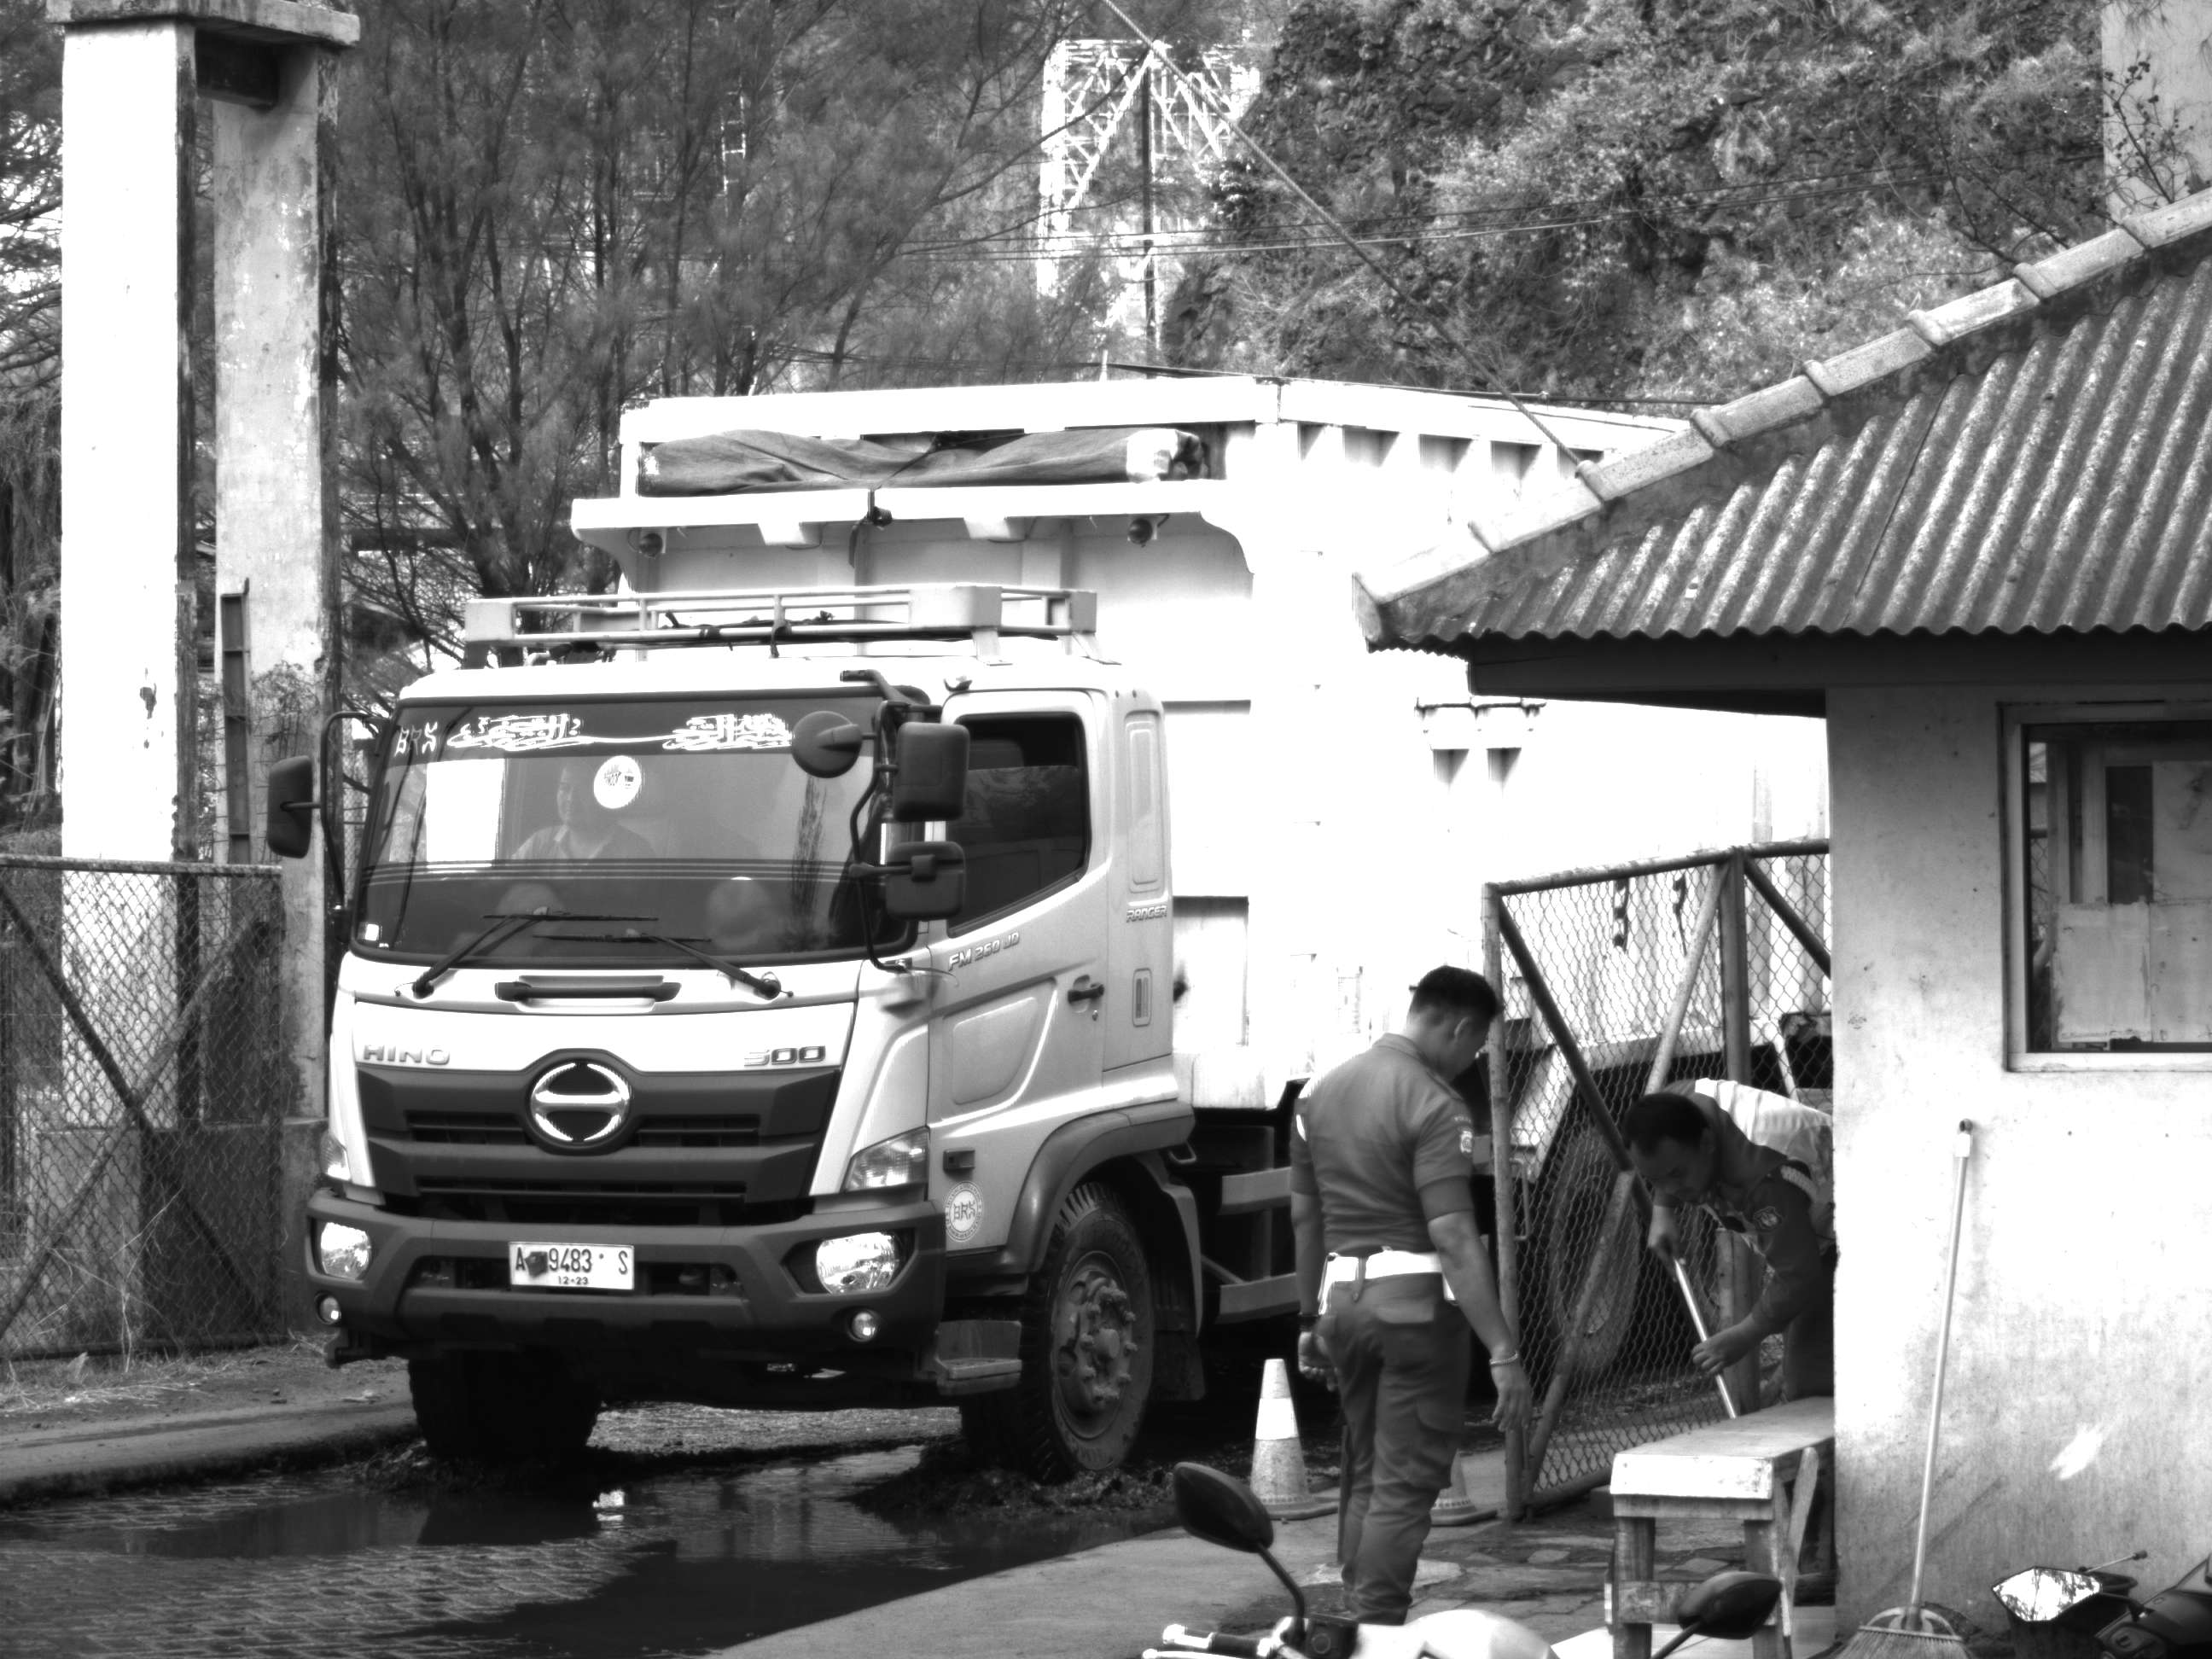day_truck_front: (267, 548, 1198, 1503)
plate: (500, 1237, 637, 1289)
